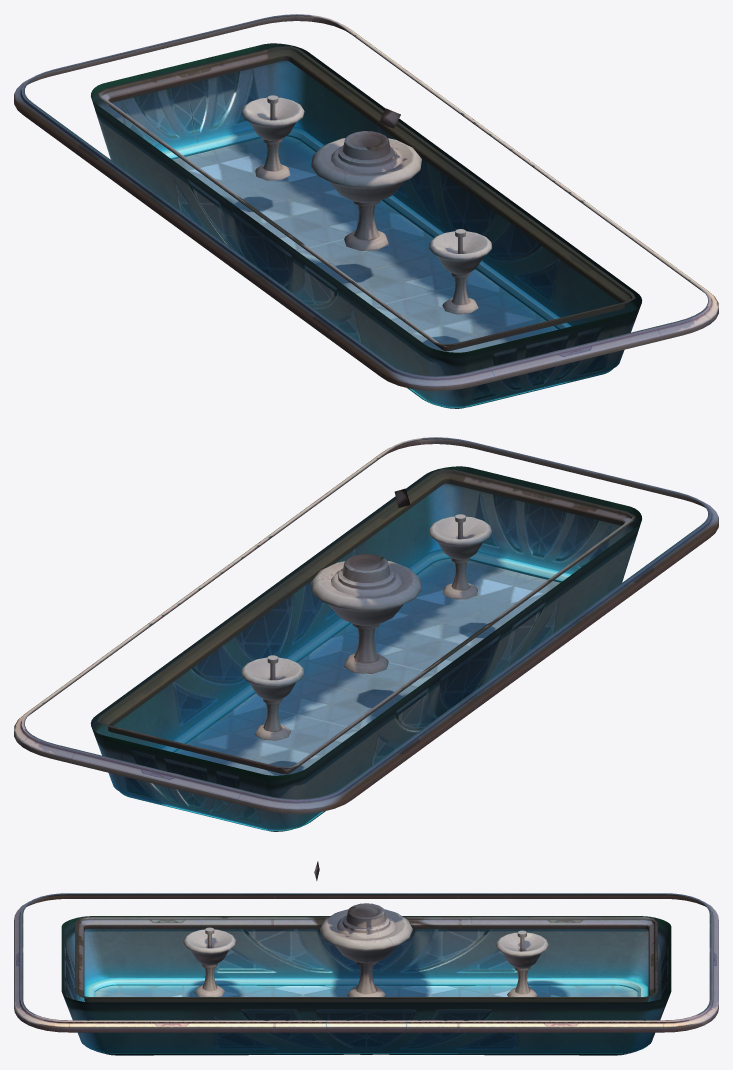
Rendered from pref_sm_garden_props_vray_008a_lv2.fbx.
3 renders of one model, top to bottom at view 1: azimuth 30°, elevation 25°; view 2: azimuth 150°, elevation 25°; view 3: azimuth 270°, elevation 25°, orthographic. The views are drawn at different scales.
Parts seen in each view (by area): view 1: pref_sm_garden_props_vray_008a_lv2; view 2: pref_sm_garden_props_vray_008a_lv2; view 3: pref_sm_garden_props_vray_008a_lv2.
Boxes of the visible parts, box(x1,y1,x2,y2) form: pref_sm_garden_props_vray_008a_lv2: box(14, 14, 718, 408); pref_sm_garden_props_vray_008a_lv2: box(14, 437, 718, 831); pref_sm_garden_props_vray_008a_lv2: box(14, 861, 718, 1055).
Size of the model in its own units: 8.9 by 4.88 by 19.86.
